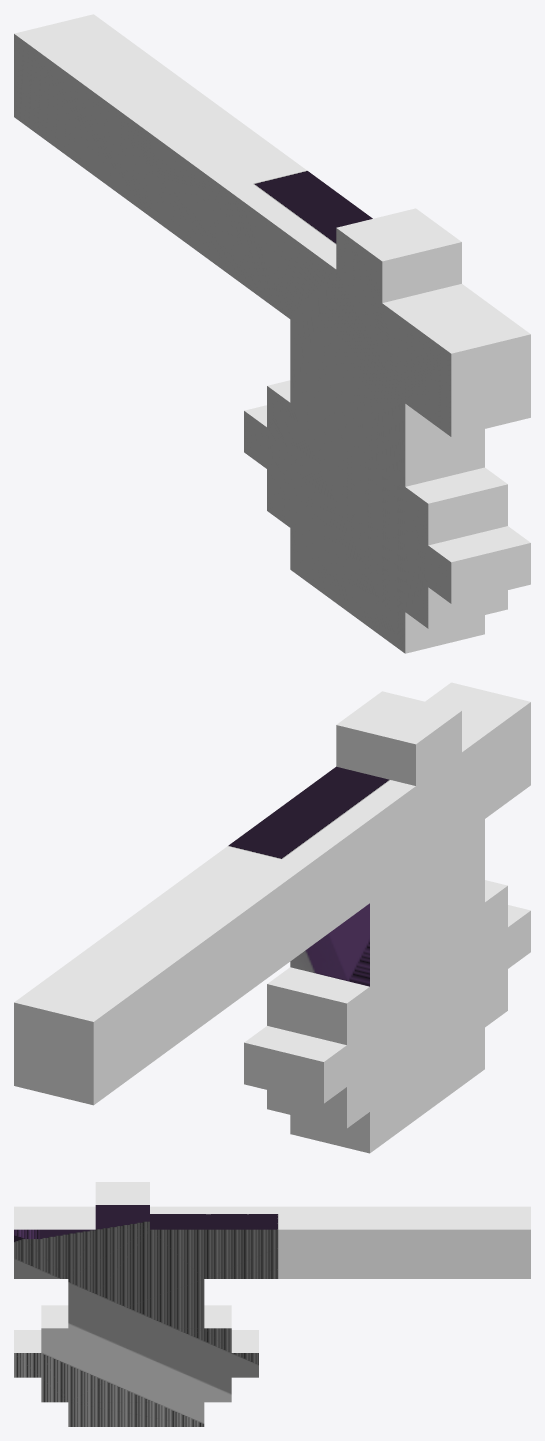
Rendered from hacha.fbx.
3 views of the same model, one above another, from view 1: azimuth 30°, elevation 25°; view 2: azimuth 150°, elevation 25°; view 3: azimuth 270°, elevation 25° (orthographic). The views are drawn at different scales.
Visible parts, largest first — view 1: axe.001; view 2: axe.001; view 3: axe.001.
Part boxes in pixels (x1,y1,x2,y2): axe.001: (14, 14, 530, 653); axe.001: (14, 682, 530, 1153); axe.001: (14, 1182, 530, 1426).
Size of the model in its own units: 20 by 90 by 190.
